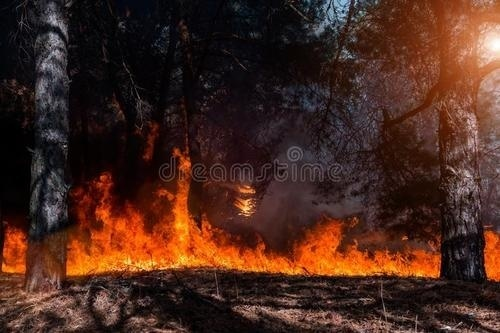fire: (0, 221, 30, 275)
